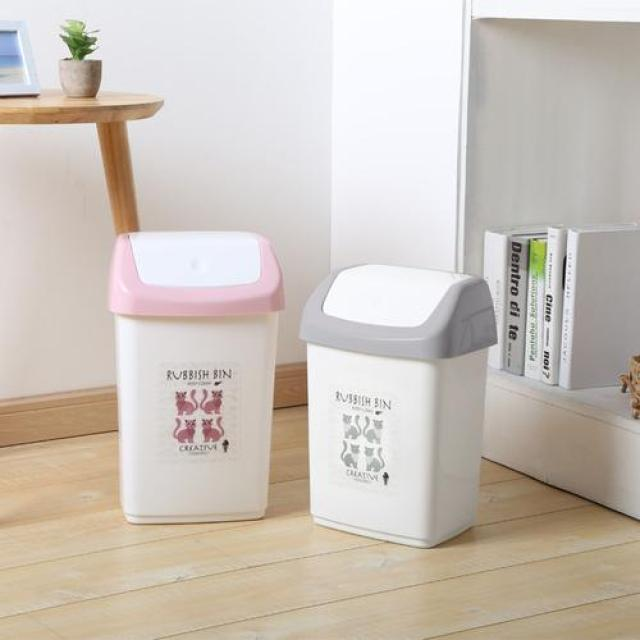dustbin: (284, 247, 502, 556), (101, 225, 292, 528)
